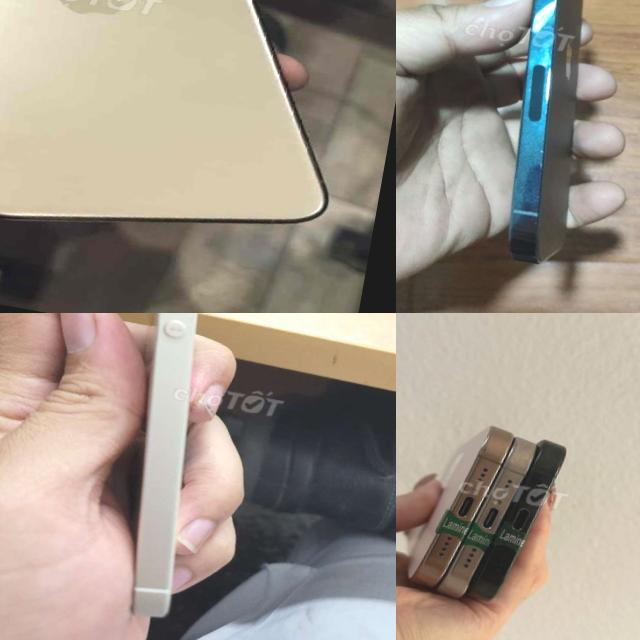gen_11: (0, 0, 396, 273)
gen_12_13: (453, 0, 640, 272)
gen_16: (408, 425, 512, 586)
gen_6: (132, 313, 195, 616)
